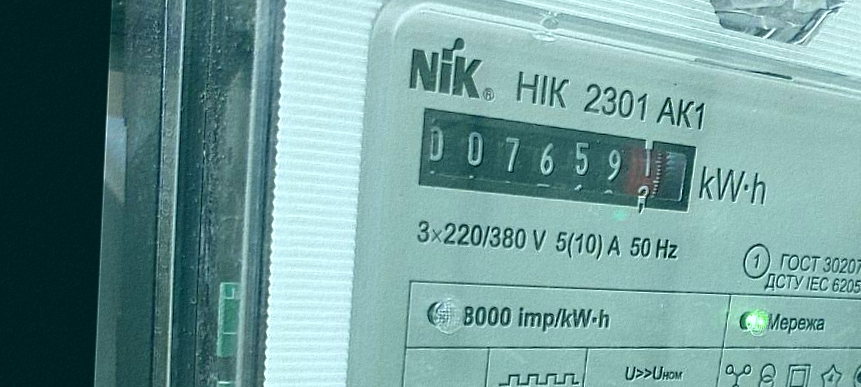0: (462, 127, 488, 169), (423, 122, 448, 164)
1: (638, 147, 657, 181)
5: (570, 139, 592, 178)
6: (535, 138, 558, 178)
7: (501, 134, 521, 174)
9: (604, 146, 623, 184)
screen: (407, 99, 706, 231)
